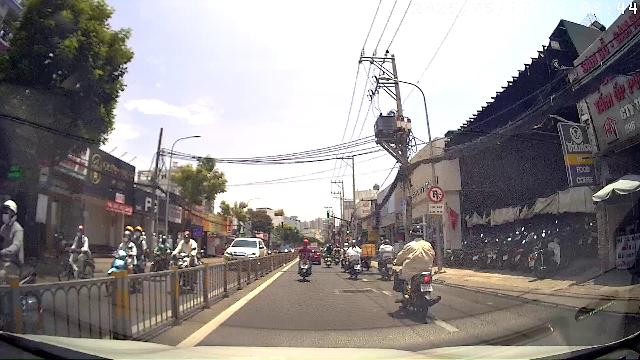124b-cam-oto-quay-dau-xe: (428, 185, 445, 203)
